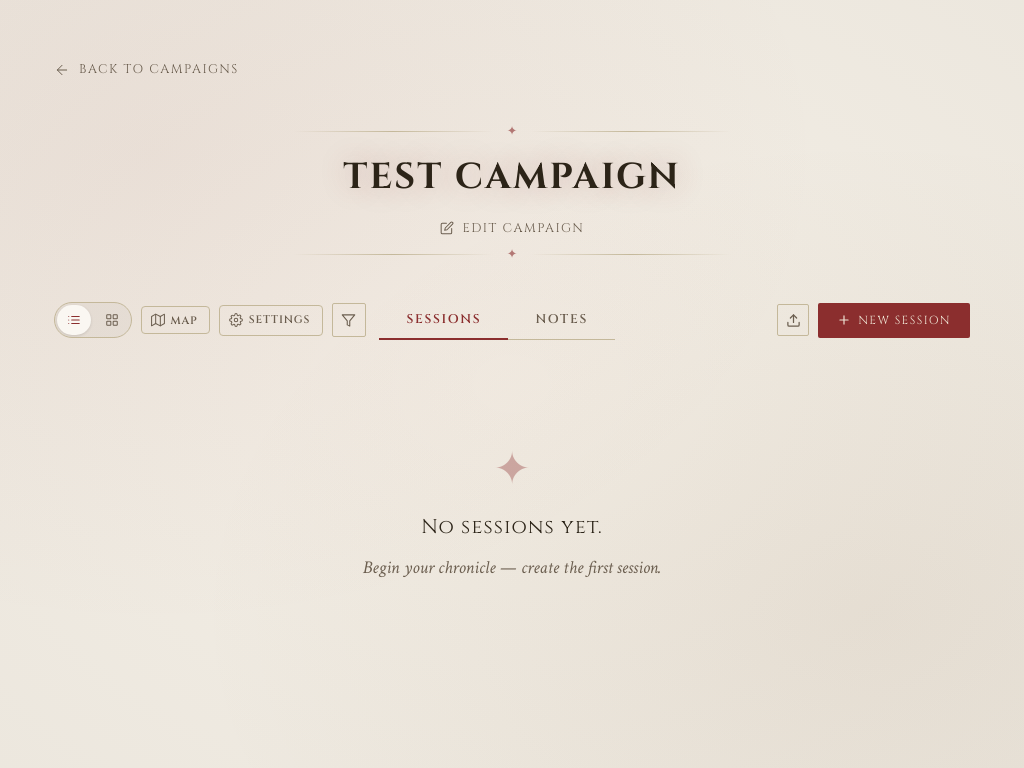
Editor — navigation & toolbar › should show merge and overwrite mode buttons in import modal
Step 1. Click the button titled "Import backup" → (793, 320), box [777,304,809,336]
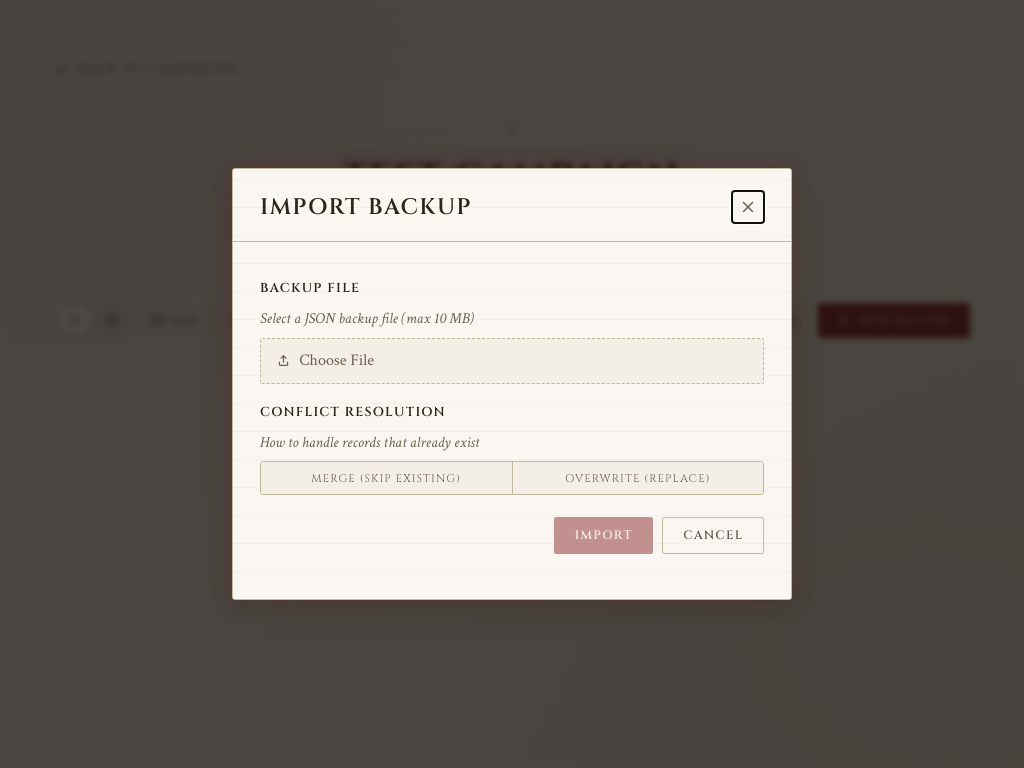
Expected: the button "Merge (skip existing)" is shown, [261,462,512,494]
Expected: the button "Overwrite (replace)" is shown, [512,462,763,494]
